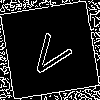V: (25, 25, 80, 82)
